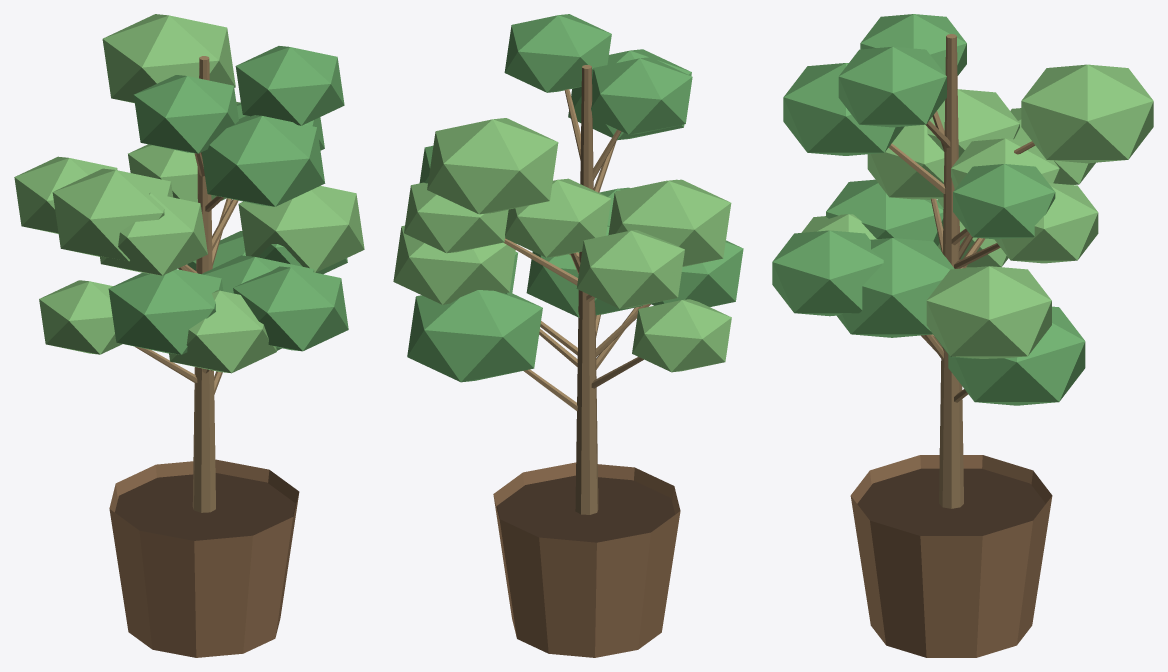
The model's file is plant_ficus.glb.
3 renders of one model, left to right at view 1: azimuth 30°, elevation 25°; view 2: azimuth 150°, elevation 25°; view 3: azimuth 270°, elevation 25°, orthographic. The views are drawn at different scales.
Visible parts, largest first — view 1: plant_ficus; view 2: plant_ficus; view 3: plant_ficus.
Boxes of the visible parts, x1,y1,x2,y2 form: plant_ficus: (14,14,364,657); plant_ficus: (393,14,743,657); plant_ficus: (772,14,1153,657).
Size of the model in its own units: 0.8556 by 1.5 by 0.8506.
